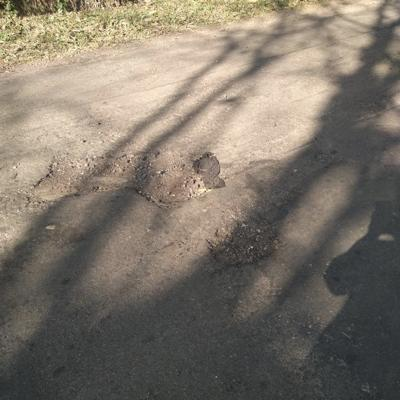Pothole: (198, 137, 378, 297), (0, 116, 265, 224)
